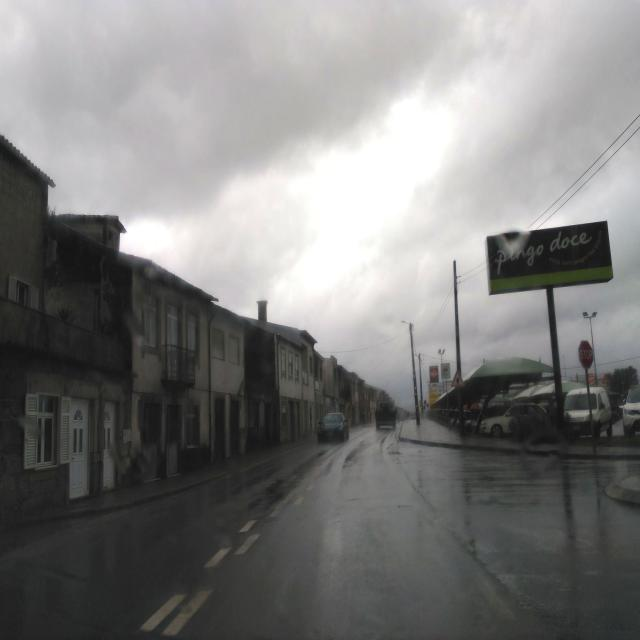car: (562, 387, 613, 441), (479, 402, 549, 438), (317, 412, 349, 443), (622, 385, 640, 436), (606, 392, 626, 421)
